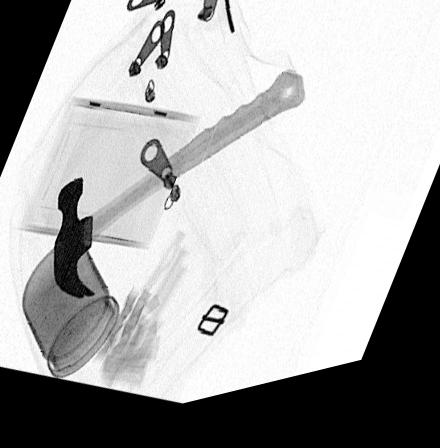Hammer: (53, 83, 307, 302)
